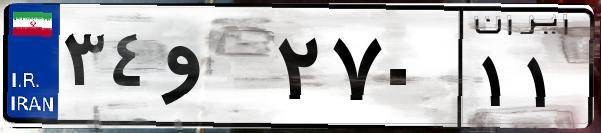0: (385, 28, 445, 110)
1: (475, 38, 525, 113), (525, 38, 570, 115)
2: (270, 28, 330, 110)
3: (57, 26, 110, 100)
4: (110, 28, 158, 98)
7: (330, 28, 385, 110)
و: (158, 20, 270, 120)
